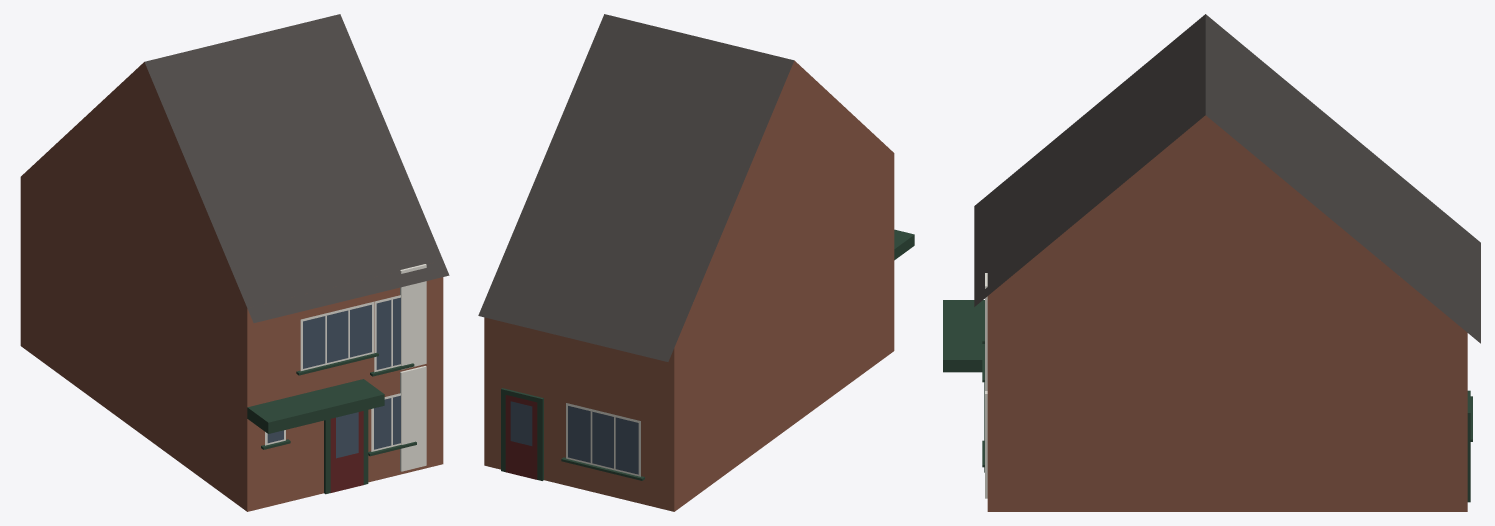
Rendered from zo-g4-canopy-pair__green-canopy__2__gable__long__solid.glb.
3 renders of one model, left to right at view 1: azimuth 30°, elevation 25°; view 2: azimuth 150°, elevation 25°; view 3: azimuth 270°, elevation 25°, orthographic. The views are drawn at different scales.
Parts seen in each view (by area): view 1: zo-g4-canopy-pair__green-canopy__2__gable__long__solid; view 2: zo-g4-canopy-pair__green-canopy__2__gable__long__solid; view 3: zo-g4-canopy-pair__green-canopy__2__gable__long__solid.
Part boxes in pixels (x1,y1,x2,y2): zo-g4-canopy-pair__green-canopy__2__gable__long__solid: (20,14,449,511); zo-g4-canopy-pair__green-canopy__2__gable__long__solid: (478,14,914,511); zo-g4-canopy-pair__green-canopy__2__gable__long__solid: (943,14,1480,511).
Size of the model in its own units: 5.39 by 9.85 by 12.1.
